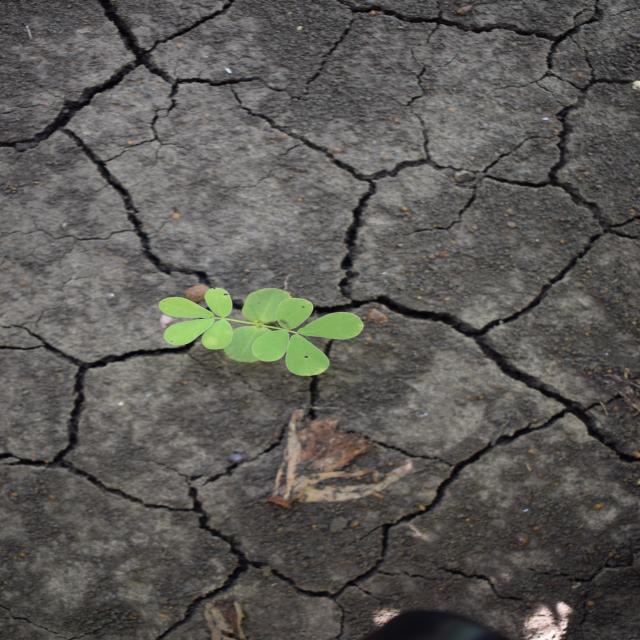Sicklepod: (156, 286, 368, 378)
